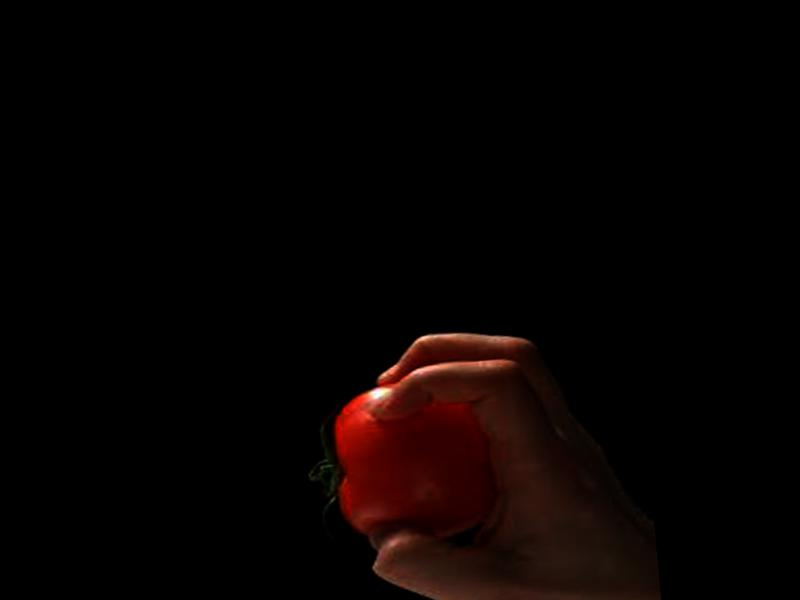Tomato: (303, 378, 494, 548)
